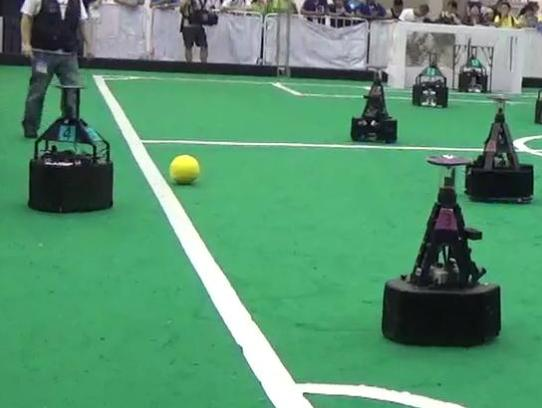robot: (378, 146, 505, 349), (26, 82, 115, 215), (462, 92, 534, 207), (345, 58, 400, 143)
